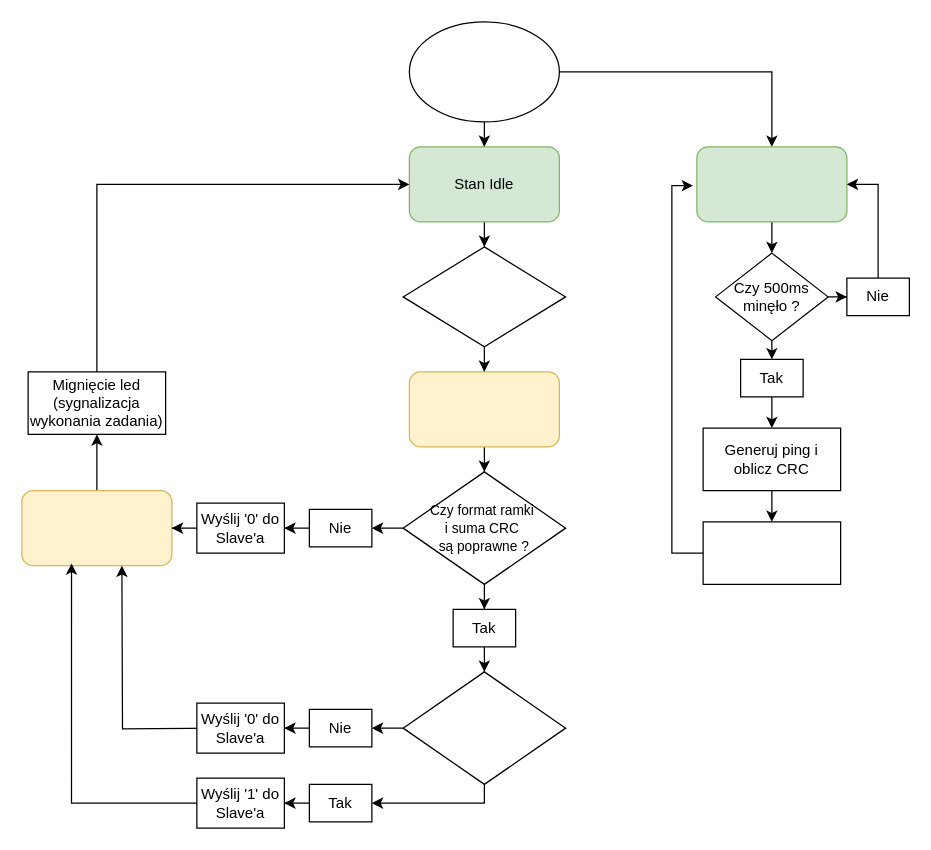
Image size: 931x850. Some labels were removed from this diagram. Each missing label, with the box of its shape:
Czy komenda mieści się w zakresie 1-8 lub ma odpowiedni znak: (402, 671, 566, 784)
Stan Auth Done: (21, 489, 172, 566)
Stan Processing Auth: (408, 371, 559, 447)
Start: (408, 21, 559, 122)
Watchdog w tle licz do 500ms: (696, 146, 847, 222)
Wyślij do Slave'a: (702, 521, 841, 584)
Zdarzenie A Odebrano ramkę od Slave'a: (402, 246, 566, 347)
